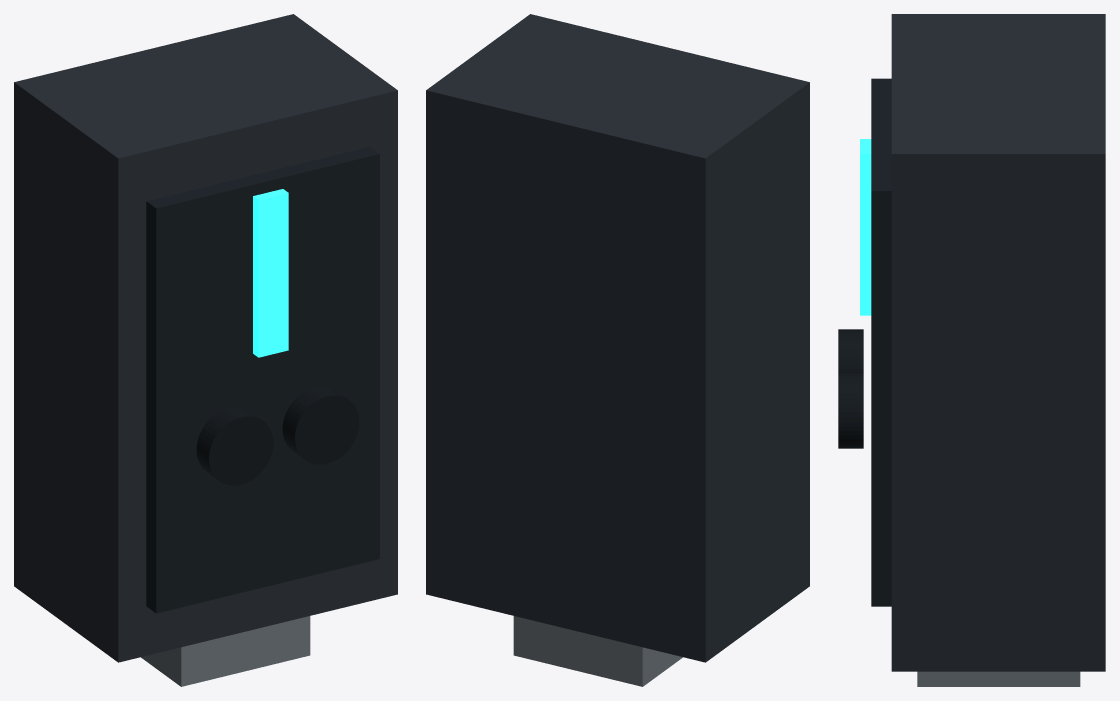
The model's file is scout_module.glb.
The picture shows the model from 3 angles, left to right: view 1: azimuth 30°, elevation 25°; view 2: azimuth 150°, elevation 25°; view 3: azimuth 270°, elevation 25°; orthographic projection. The views are drawn at different scales.
Visible parts, largest first — view 1: Cartridge, CartridgeFace, LockTab, CapacityStripe, RoleLens, RoleLens.001; view 2: Cartridge, LockTab; view 3: Cartridge, CartridgeFace, LockTab, CapacityStripe, RoleLens.001, RoleLens.
Boxes of the visible parts, x1=… form: Cartridge: x1=14, y1=14, x2=397, y2=662; CartridgeFace: x1=146, y1=146, x2=379, y2=613; LockTab: x1=141, y1=616, x2=310, y2=686; CapacityStripe: x1=253, y1=189, x2=288, y2=357; RoleLens: x1=196, y1=407, x2=273, y2=485; RoleLens.001: x1=282, y1=386, x2=359, y2=464; Cartridge: x1=426, y1=14, x2=809, y2=662; LockTab: x1=513, y1=616, x2=682, y2=686; Cartridge: x1=891, y1=14, x2=1105, y2=671; CartridgeFace: x1=871, y1=78, x2=891, y2=606; LockTab: x1=917, y1=671, x2=1080, y2=686; CapacityStripe: x1=860, y1=139, x2=871, y2=315; RoleLens.001: x1=838, y1=372, x2=863, y2=448; RoleLens: x1=838, y1=329, x2=863, y2=372.
Size of the model in its own units: 0.65 by 1.24 by 0.525.
